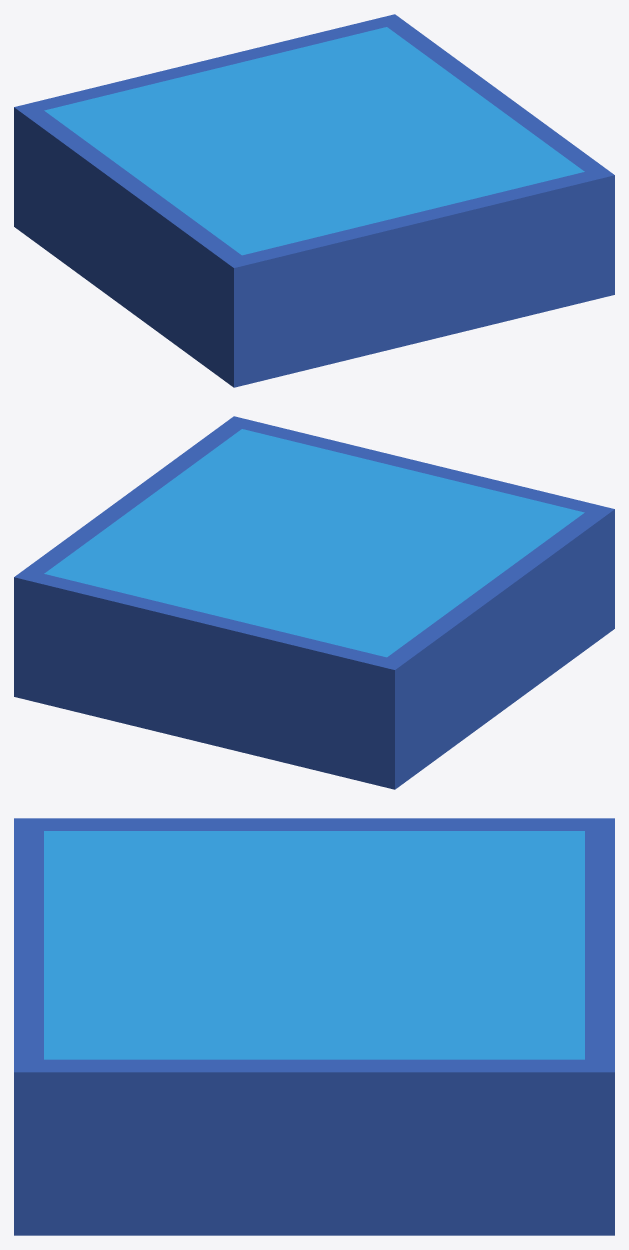
Rendered from Obstacle.fbx.
3 renders of one model, top to bottom at view 1: azimuth 30°, elevation 25°; view 2: azimuth 150°, elevation 25°; view 3: azimuth 270°, elevation 25°, orthographic. The views are drawn at different scales.
Visible parts, largest first — view 1: Obstacle; view 2: Obstacle; view 3: Obstacle.
Part boxes in pixels (<box>): Obstacle: <box>14,14,614,387</box>; Obstacle: <box>14,416,614,789</box>; Obstacle: <box>14,818,614,1235</box>.
Size of the model in its own units: 640 by 192 by 640.
